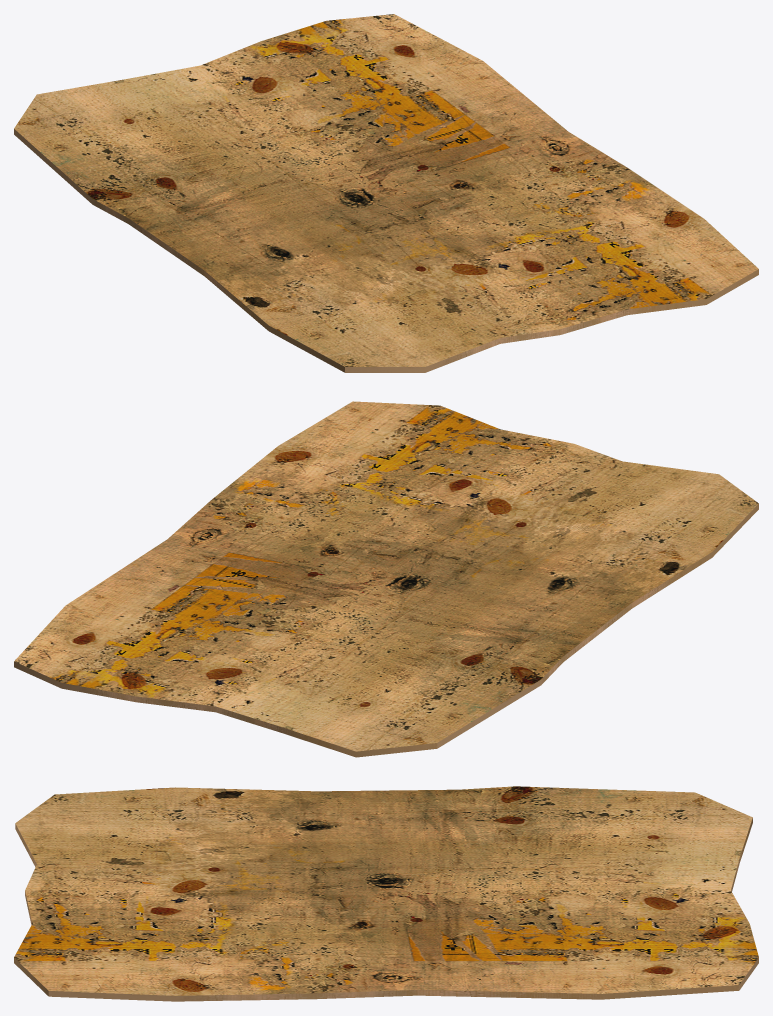
File: Woodplank2.FBX
The picture shows the model from 3 angles, top to bottom: view 1: azimuth 30°, elevation 25°; view 2: azimuth 150°, elevation 25°; view 3: azimuth 270°, elevation 25°; orthographic projection. The views are drawn at different scales.
Visible parts, largest first — view 1: Woodplank2; view 2: Woodplank2; view 3: Woodplank2.
Boxes of the visible parts, <box> form: Woodplank2: <box>14,14,758,372</box>; Woodplank2: <box>14,401,758,757</box>; Woodplank2: <box>14,786,758,1001</box>.
Size of the model in its own units: 210 by 2.71 by 316.
